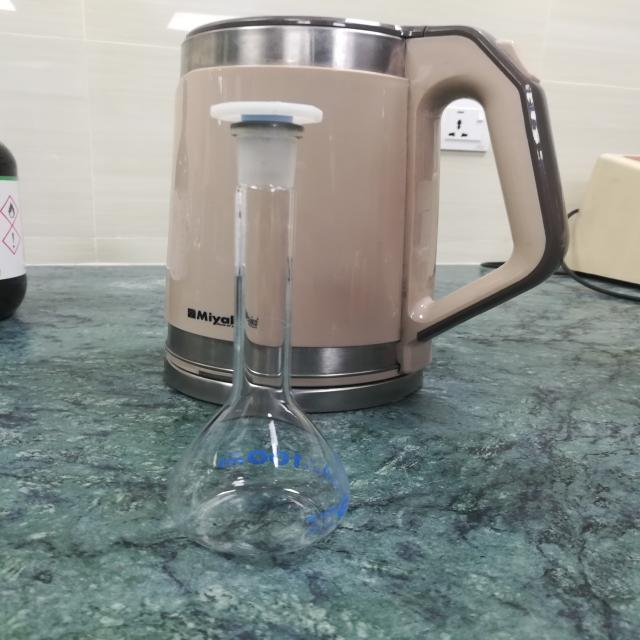Volumetric_Flask: (160, 64, 385, 576)
